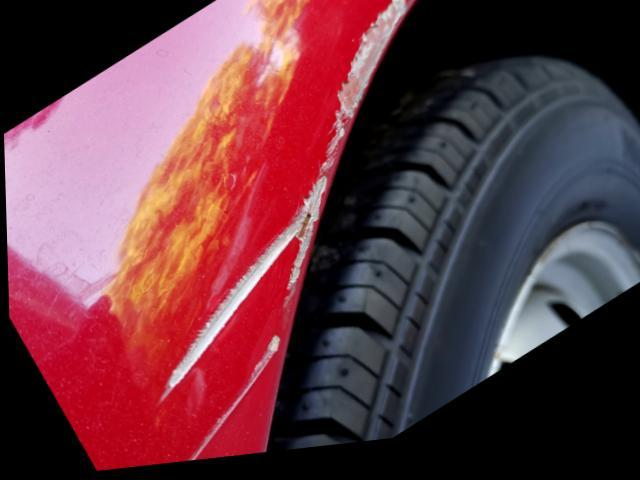scratch: (152, 0, 411, 465)
